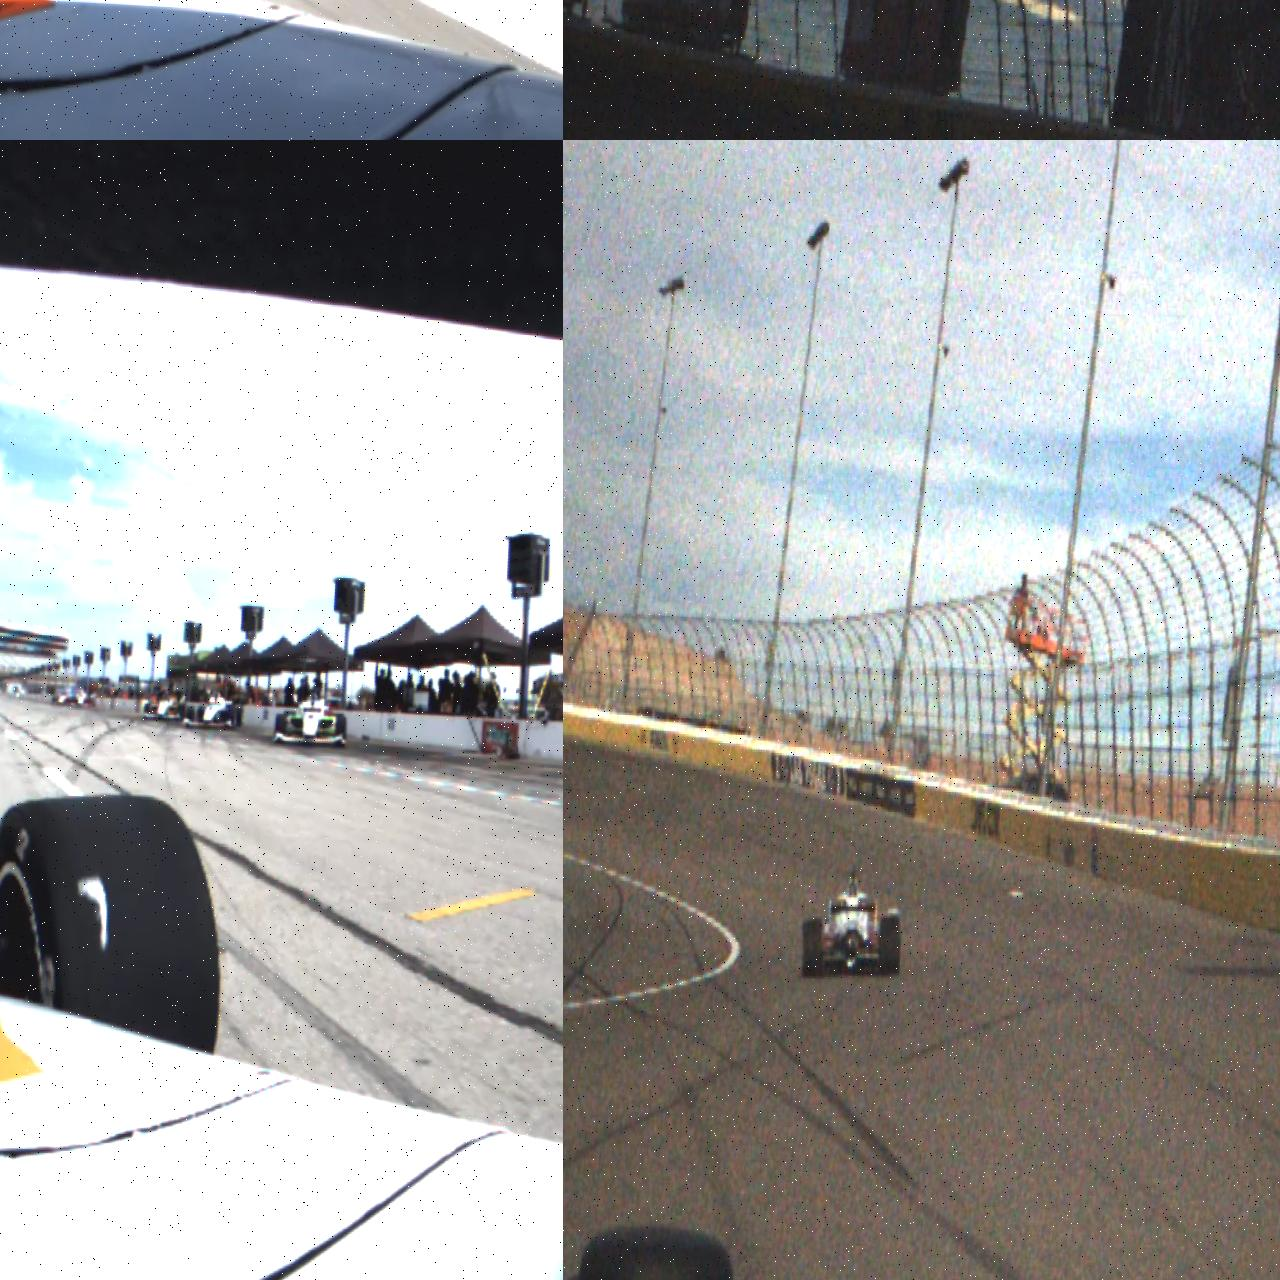AV: (799, 865, 904, 985), (272, 687, 349, 750), (184, 688, 245, 729), (139, 688, 188, 721)
Wheel: (0, 787, 231, 1056), (877, 914, 903, 978), (799, 918, 824, 980), (334, 715, 348, 748), (273, 714, 285, 742), (233, 707, 243, 727), (186, 707, 193, 726), (226, 710, 233, 728)
